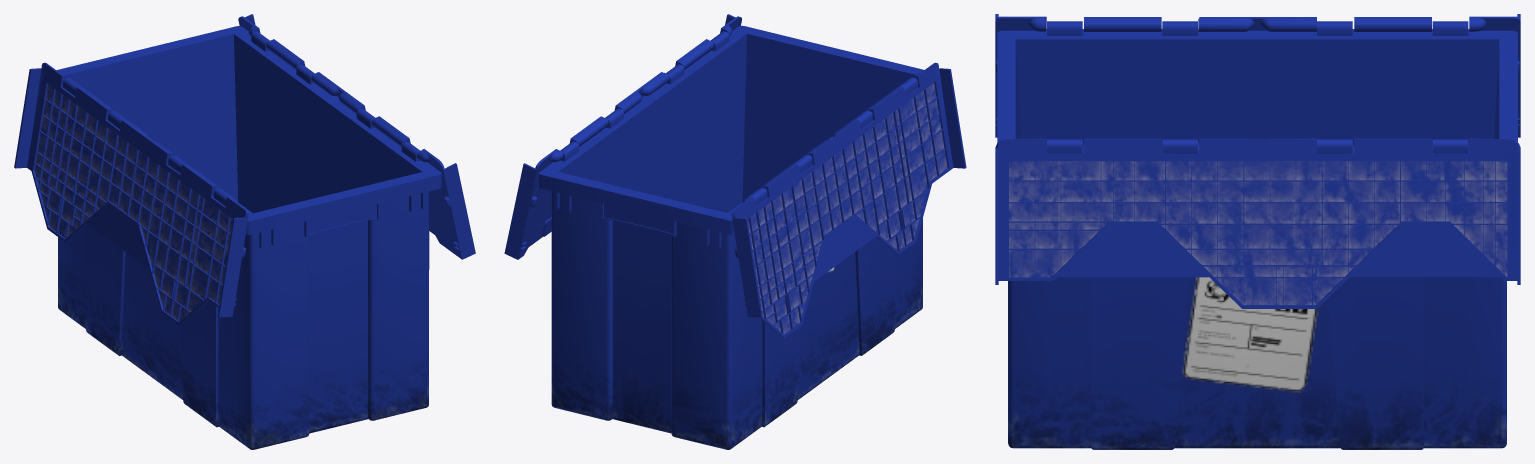
3 views of the same model, side by side, from view 1: azimuth 30°, elevation 25°; view 2: azimuth 150°, elevation 25°; view 3: azimuth 270°, elevation 25° (orthographic). The views are drawn at different scales.
Parts seen in each view (by area): view 1: industrial_pastic_container, industrial_pastic_container_lid_b, industrial_pastic_container_lid_a; view 2: industrial_pastic_container, industrial_pastic_container_lid_b, industrial_pastic_container_lid_a; view 3: industrial_pastic_container, industrial_pastic_container_lid_a, industrial_pastic_container_lid_b.
Boxes of the visible parts, x1,y1,x2,y2 form: industrial_pastic_container: (56, 26, 441, 449); industrial_pastic_container_lid_b: (14, 62, 248, 325); industrial_pastic_container_lid_a: (238, 14, 475, 259); industrial_pastic_container: (539, 25, 923, 449); industrial_pastic_container_lid_b: (731, 62, 966, 337); industrial_pastic_container_lid_a: (504, 14, 741, 259); industrial_pastic_container: (997, 21, 1517, 449); industrial_pastic_container_lid_a: (995, 138, 1520, 308); industrial_pastic_container_lid_b: (995, 14, 1520, 137).
Bounding box in the file's own units: 0.4572 × 0.4188 × 0.6315.
Materials: 1 (1 with a texture image).
